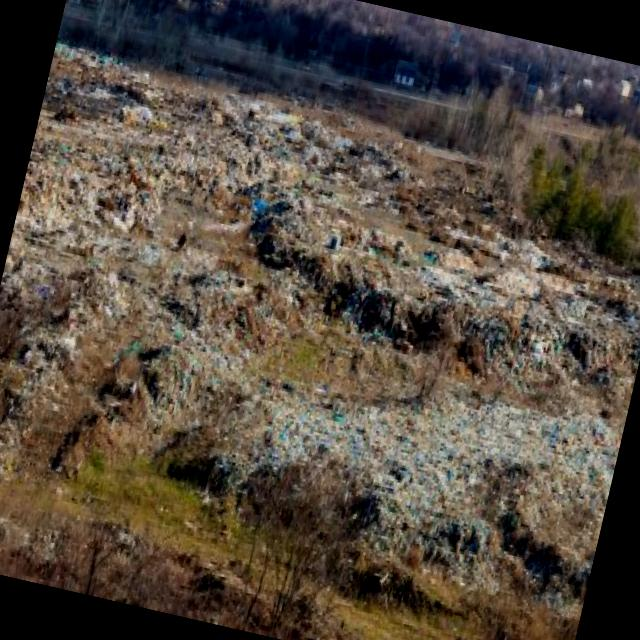garbage: (0, 52, 632, 614)
